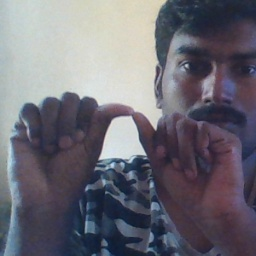A: (12, 94, 247, 221)
